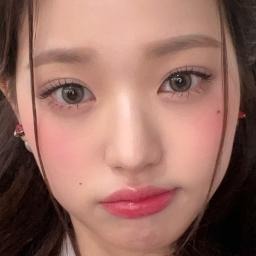face: (30, 0, 236, 250)
